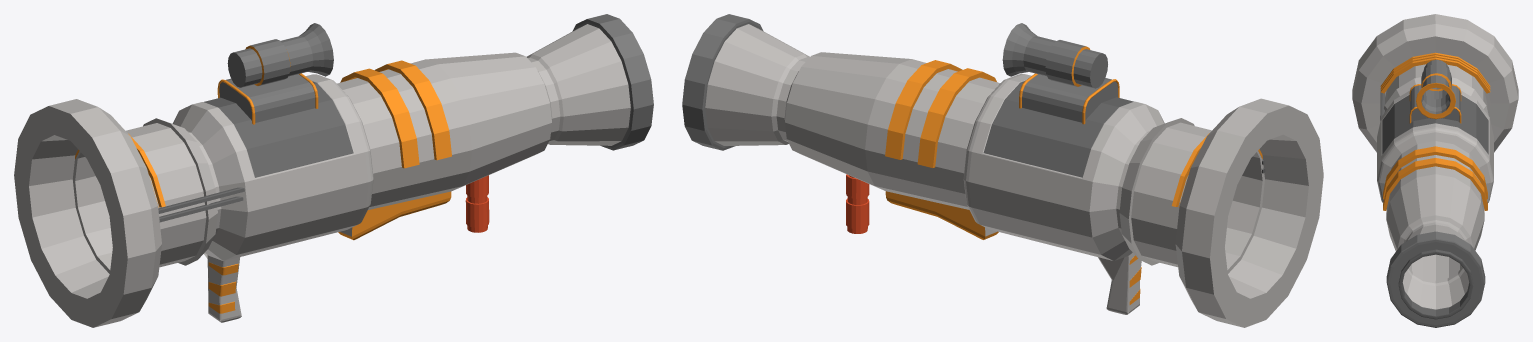
Rendered from n_bazooka.fbx.
The picture shows the model from 3 angles, left to right: view 1: azimuth 30°, elevation 25°; view 2: azimuth 150°, elevation 25°; view 3: azimuth 270°, elevation 25°; orthographic projection. The views are drawn at different scales.
Visible parts, largest first — view 1: Cylinder.011; view 2: Cylinder.011; view 3: Cylinder.011.
Boxes of the visible parts, box(x1,y1,x2,y2) form: Cylinder.011: box(14, 14, 653, 327); Cylinder.011: box(682, 14, 1323, 327); Cylinder.011: box(1352, 14, 1518, 327).
Bounding box in the file's own units: 2177 × 990 × 770.
